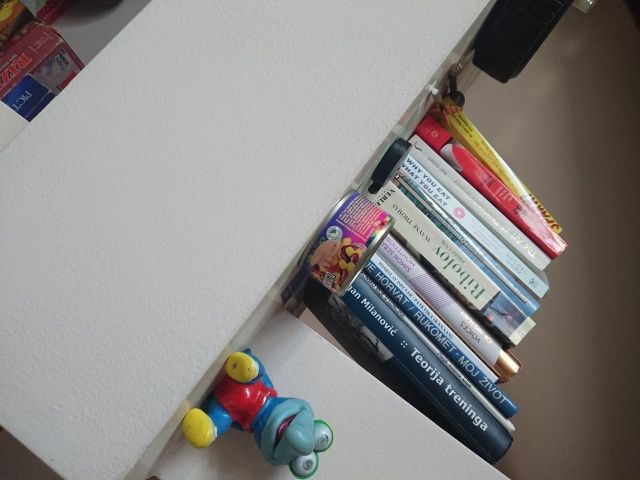Giana Tuna Salad Mexico 185g: (294, 186, 399, 301)
